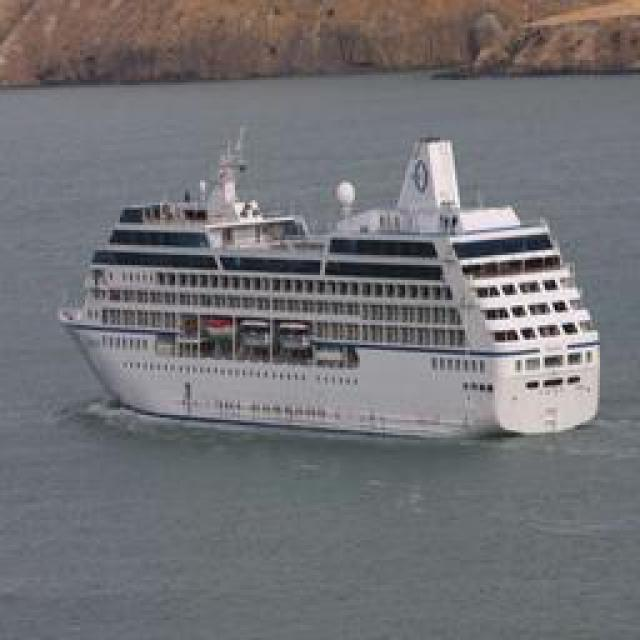Ship: (60, 129, 603, 449)
